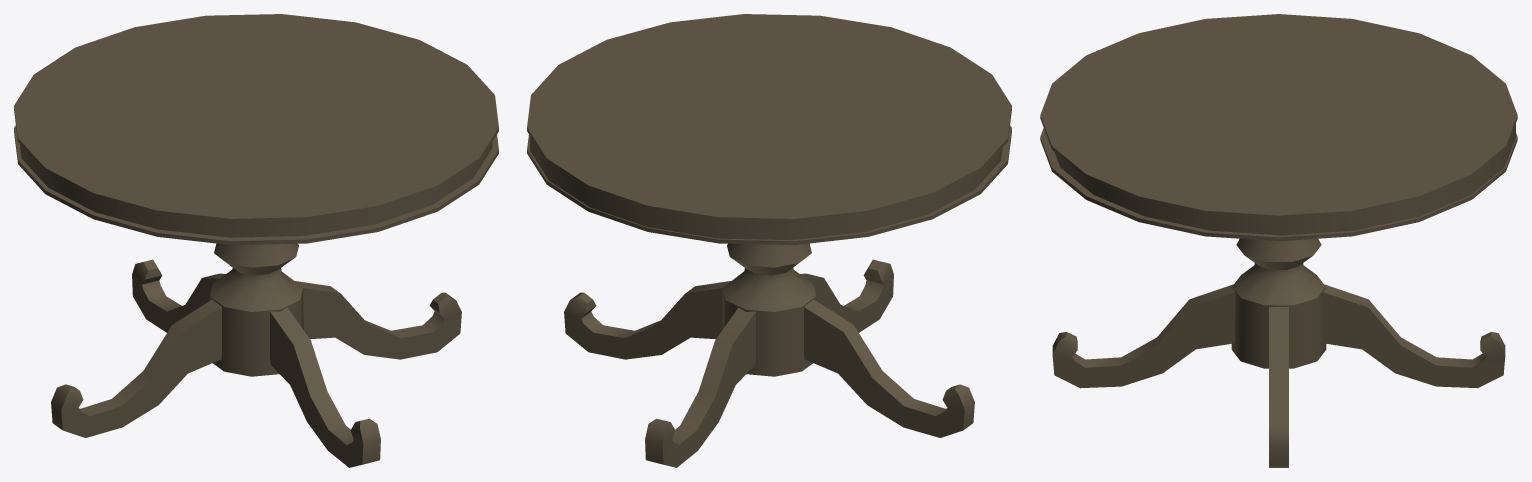
The model's file is Table_RoundSmall2.glb.
3 renders of one model, left to right at view 1: azimuth 30°, elevation 25°; view 2: azimuth 150°, elevation 25°; view 3: azimuth 270°, elevation 25°, orthographic. The views are drawn at different scales.
Visible parts, largest first — view 1: Table_RoundSmall2; view 2: Table_RoundSmall2; view 3: Table_RoundSmall2.
Part boxes in pixels (left/top/right/bottom): Table_RoundSmall2: left=14, top=14, right=498, bottom=467; Table_RoundSmall2: left=527, top=14, right=1011, bottom=467; Table_RoundSmall2: left=1040, top=14, right=1517, bottom=467.
Size of the model in its own units: 1.94 by 1.21 by 1.94.
